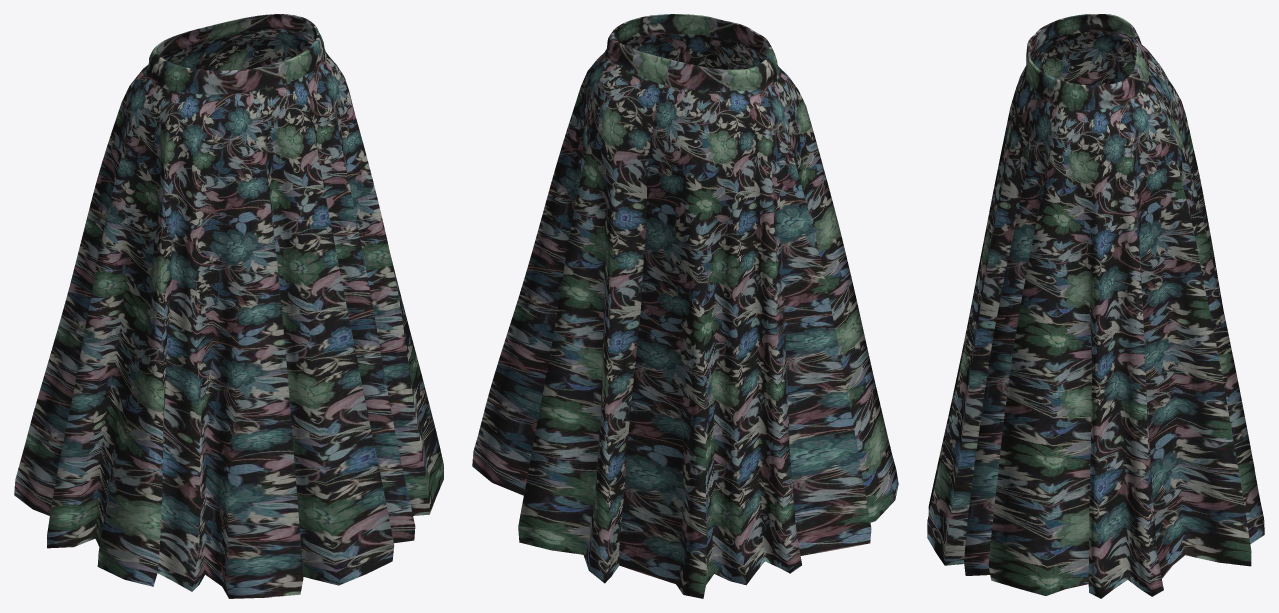
Rendered from toigo-long-full-skirt.glb.
3 renders of one model, left to right at view 1: azimuth 30°, elevation 25°; view 2: azimuth 150°, elevation 25°; view 3: azimuth 270°, elevation 25°, orthographic. The views are drawn at different scales.
Parts seen in each view (by area): view 1: long full skirt; view 2: long full skirt; view 3: long full skirt.
Boxes of the visible parts, x1,y1,x2,y2 form: long full skirt: (14, 14, 443, 598); long full skirt: (472, 14, 898, 598); long full skirt: (927, 14, 1264, 598).
Size of the model in its own units: 68.95 by 86.57 by 53.46.
1 material, 1 textured.
